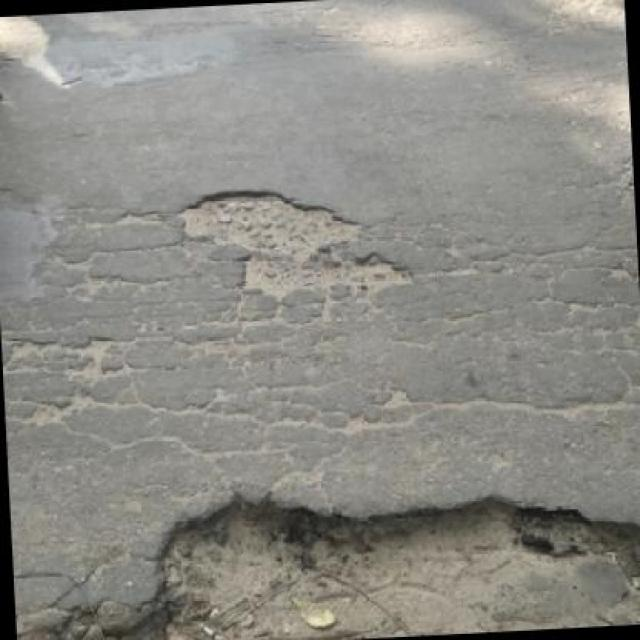pothole1: (31, 462, 638, 638), (173, 176, 418, 302)
